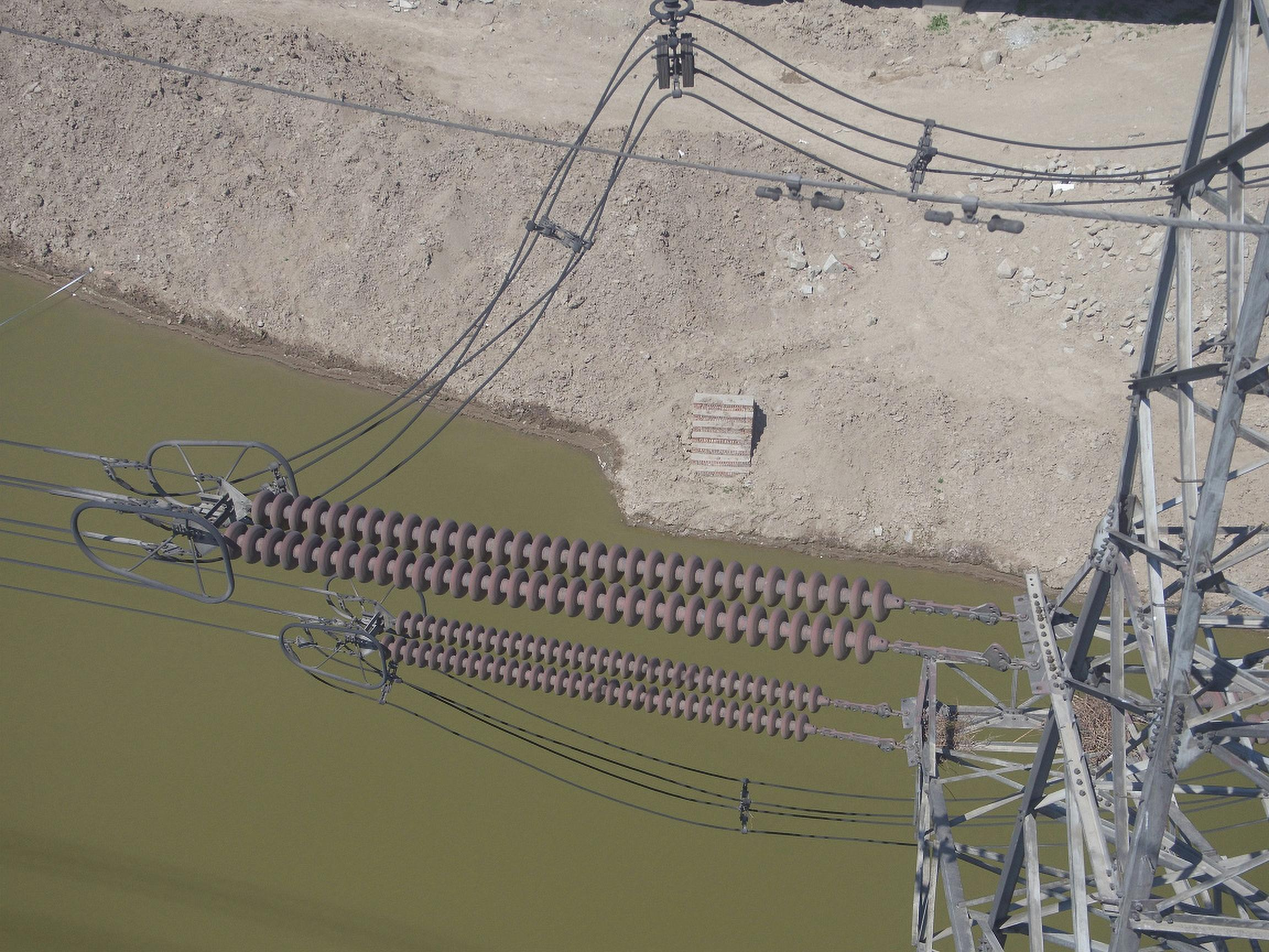insulator: (218, 485, 896, 668), (375, 608, 826, 745)
